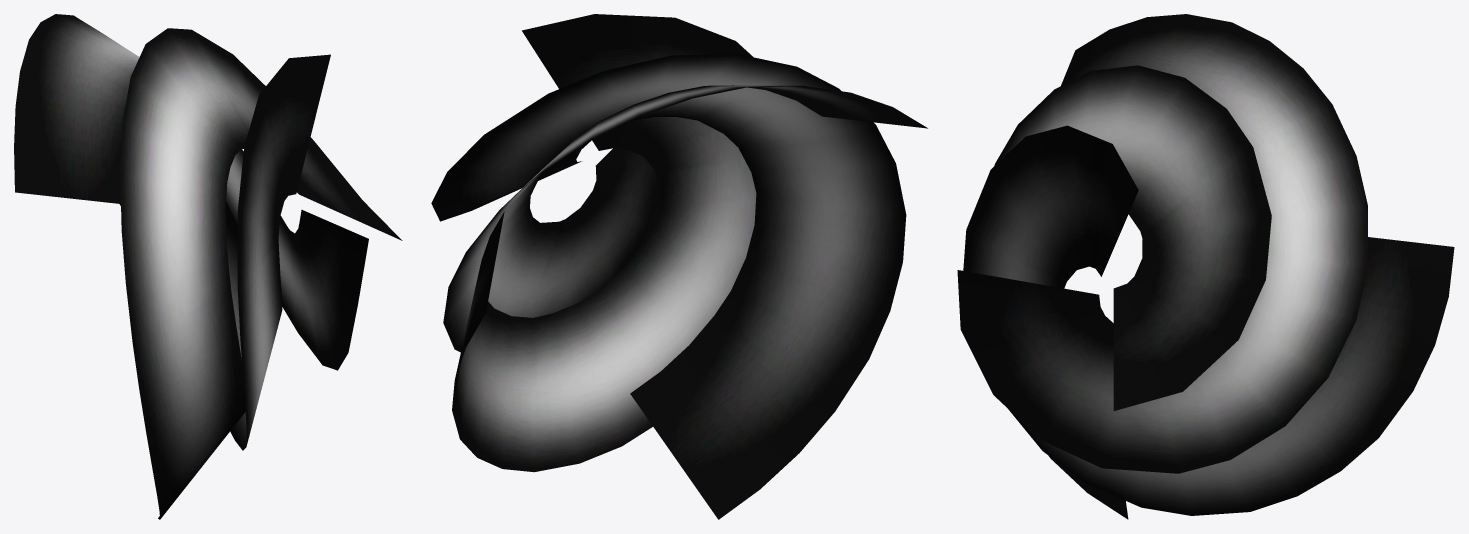
File: vfx_kurp_0236.dae
3 renders of one model, left to right at view 1: azimuth 30°, elevation 25°; view 2: azimuth 150°, elevation 25°; view 3: azimuth 270°, elevation 25°, orthographic. The views are drawn at different scales.
Visible parts, largest first — view 1: vfx_kurp_0236; view 2: vfx_kurp_0236; view 3: vfx_kurp_0236.
Boxes of the visible parts, box(x1,y1,x2,y2) form: vfx_kurp_0236: box(14, 14, 402, 519); vfx_kurp_0236: box(431, 14, 927, 519); vfx_kurp_0236: box(957, 14, 1454, 519).
Bounding box in the file's own units: 7.06 × 7.46 × 7.62.
1 material, 1 textured.
